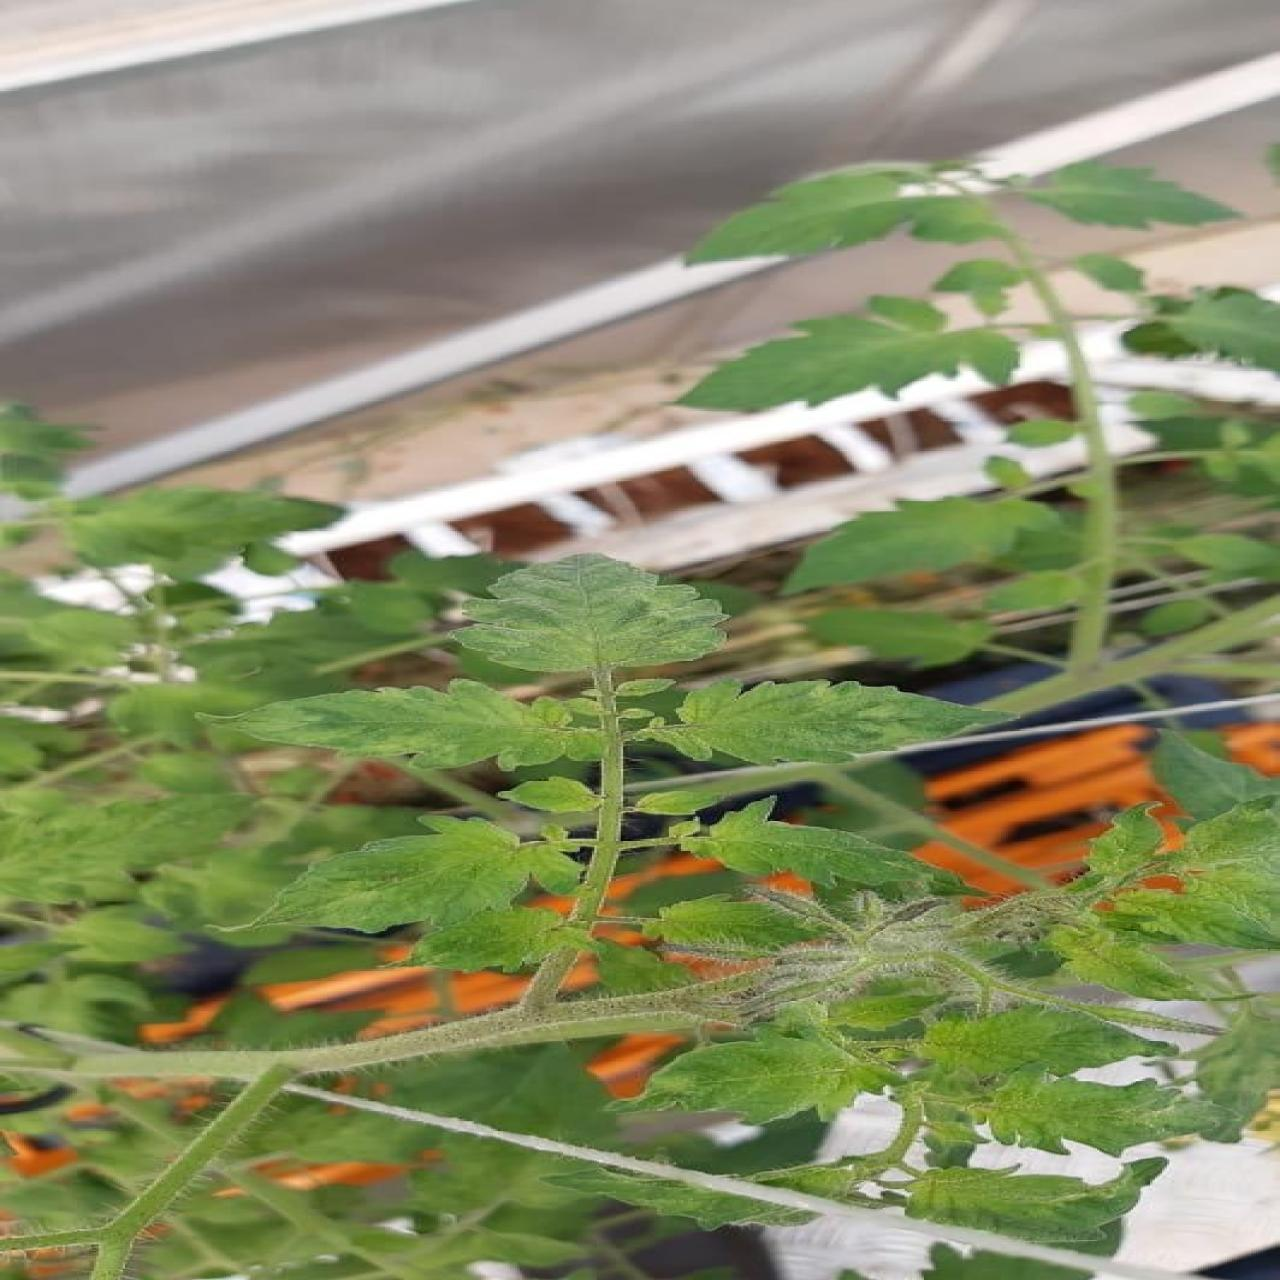T_L_R: (218, 681, 602, 770), (456, 556, 726, 674), (640, 681, 1008, 765), (256, 819, 526, 932)
T_S_R: (320, 994, 704, 1070)
